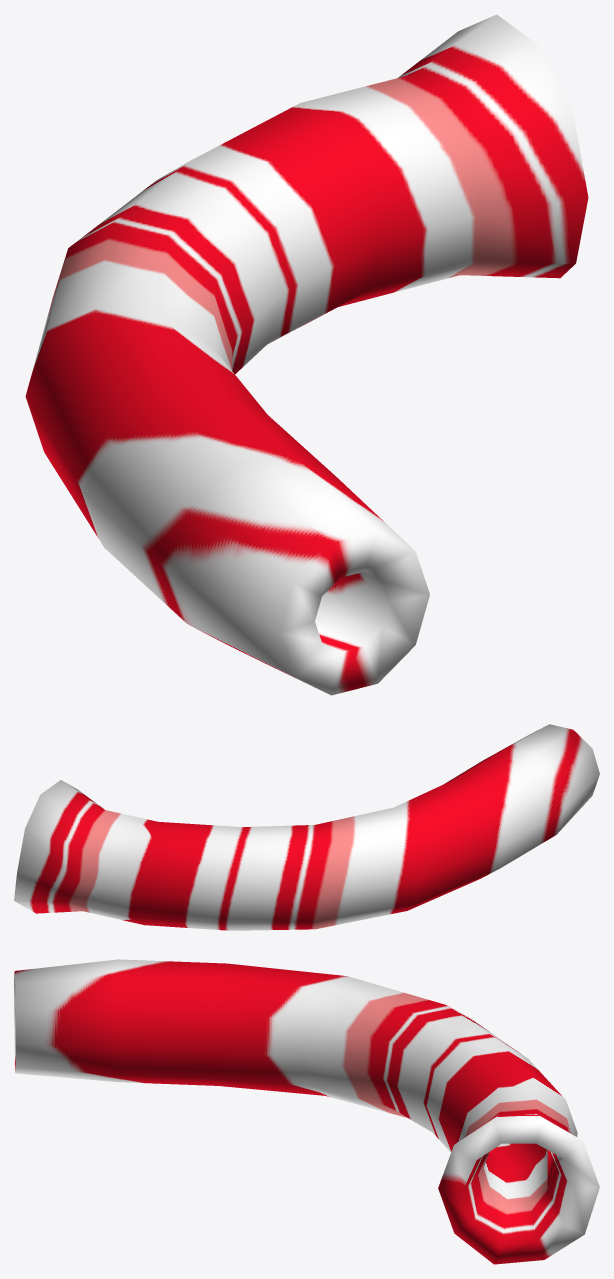
The model's file is CandyLeftTurn.fbx.
3 views of the same model, one above another, from view 1: azimuth 30°, elevation 25°; view 2: azimuth 150°, elevation 25°; view 3: azimuth 270°, elevation 25° (orthographic). The views are drawn at different scales.
Visible parts, largest first — view 1: Cylinder.010; view 2: Cylinder.010; view 3: Cylinder.010.
Boxes of the visible parts, <box> form: Cylinder.010: <box>25,14,588,695</box>; Cylinder.010: <box>14,724,599,930</box>; Cylinder.010: <box>14,959,599,1264</box>.
Bounding box in the file's own units: 648 × 205 × 779.
